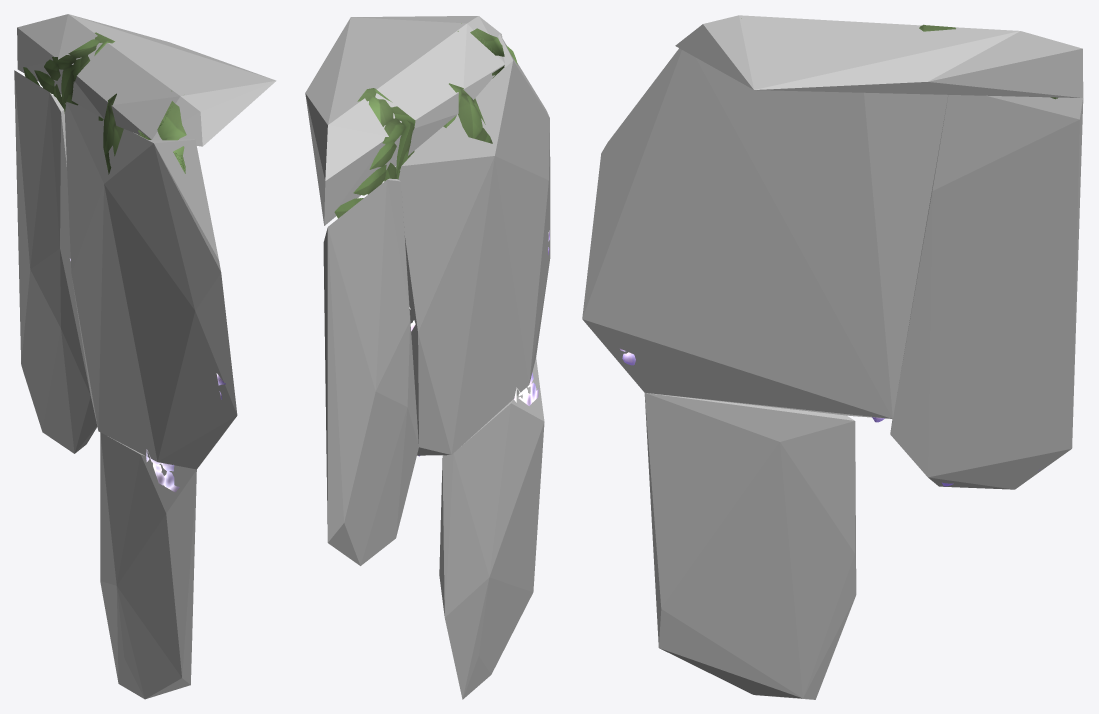
Rendered from SM_Env_Vines_Preset_Overhang_02.fbx.
The picture shows the model from 3 angles, left to right: view 1: azimuth 30°, elevation 25°; view 2: azimuth 150°, elevation 25°; view 3: azimuth 270°, elevation 25°; orthographic projection. The views are drawn at different scales.
Visible parts, largest first — view 1: SM_Env_Vines_Preset_Overhang_02_ConvexHulls, SM_Env_Vines_Preset_Overhang_02; view 2: SM_Env_Vines_Preset_Overhang_02_ConvexHulls, SM_Env_Vines_Preset_Overhang_02; view 3: SM_Env_Vines_Preset_Overhang_02_ConvexHulls.
Part boxes in pixels (x1,y1,x2,y2): SM_Env_Vines_Preset_Overhang_02_ConvexHulls: (14, 14, 276, 699); SM_Env_Vines_Preset_Overhang_02: (23, 32, 225, 492); SM_Env_Vines_Preset_Overhang_02_ConvexHulls: (305, 16, 550, 699); SM_Env_Vines_Preset_Overhang_02: (334, 23, 549, 456); SM_Env_Vines_Preset_Overhang_02_ConvexHulls: (582, 15, 1083, 699).
Size of the model in its own units: 71.83 by 175 by 270.
Materials: 3 (2 with a texture image).
